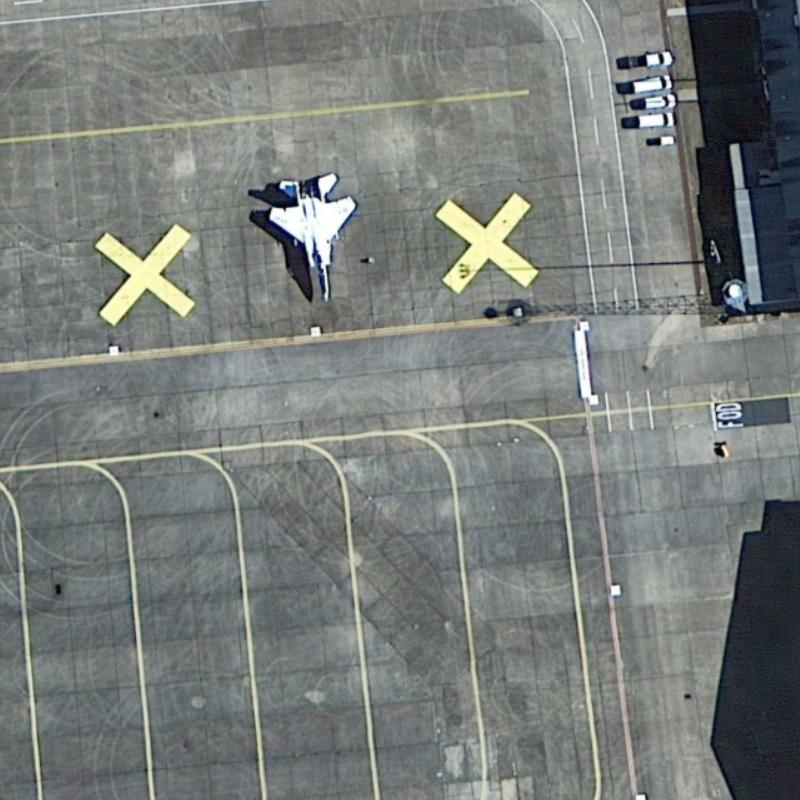A13: (260, 166, 362, 308)
